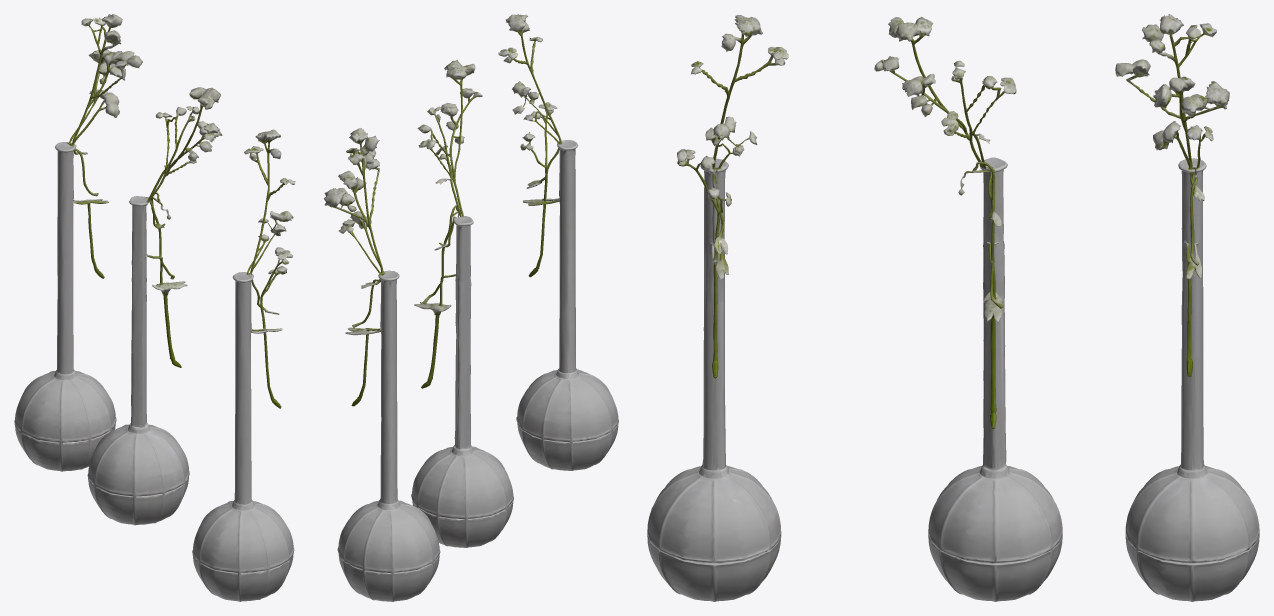
File: decor-vase-flowers-a.glb
3 views of the same model, side by side, from view 1: azimuth 30°, elevation 25°; view 2: azimuth 150°, elevation 25°; view 3: azimuth 270°, elevation 25° (orthographic). The views are drawn at different scales.
Visible parts, largest first — view 1: tripo_node_e9ac3d8f-c752-42cf-897d-ac0a433b3e63; view 2: tripo_node_e9ac3d8f-c752-42cf-897d-ac0a433b3e63; view 3: tripo_node_e9ac3d8f-c752-42cf-897d-ac0a433b3e63.
Part boxes in pixels (x1,y1,x2,y2): tripo_node_e9ac3d8f-c752-42cf-897d-ac0a433b3e63: (14, 14, 295, 601); tripo_node_e9ac3d8f-c752-42cf-897d-ac0a433b3e63: (324, 14, 618, 601); tripo_node_e9ac3d8f-c752-42cf-897d-ac0a433b3e63: (647, 14, 1259, 601).
Bounding box in the file's own units: 0.1086 × 0.45 × 0.4201.
Materials: 1 (1 with a texture image).
